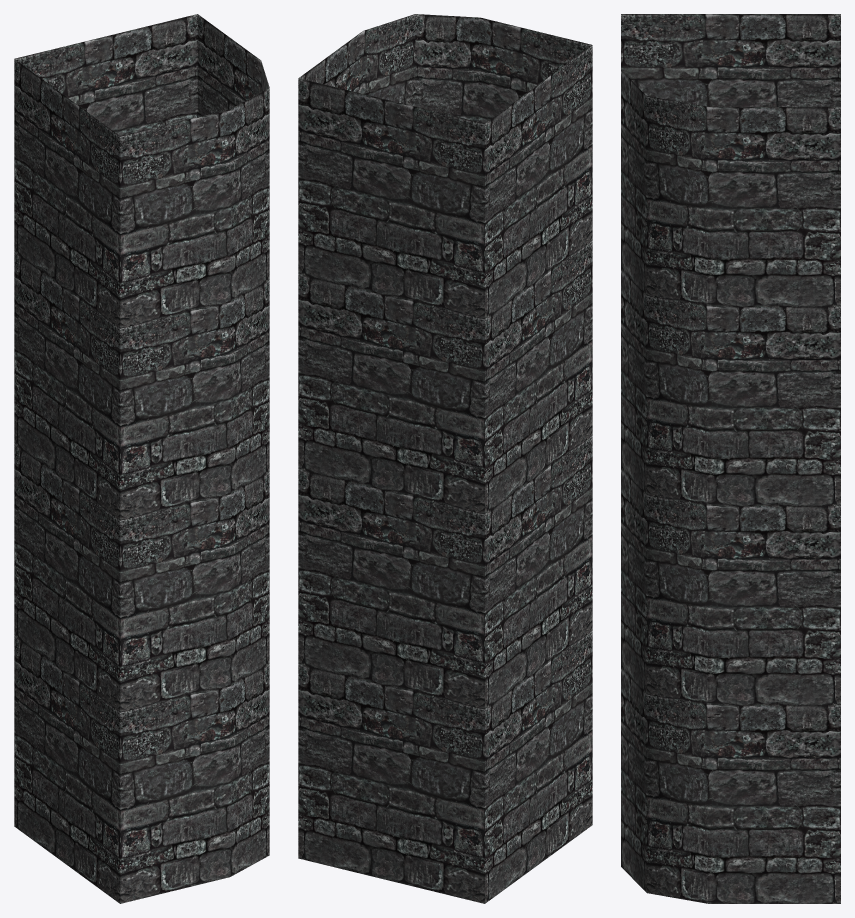
File: blocktile2.fbx
3 views of the same model, side by side, from view 1: azimuth 30°, elevation 25°; view 2: azimuth 150°, elevation 25°; view 3: azimuth 270°, elevation 25° (orthographic). The views are drawn at different scales.
Parts seen in each view (by area): view 1: polySurface14; view 2: polySurface14; view 3: polySurface14.
Boxes of the visible parts, x1,y1,x2,y2 form: polySurface14: (14, 14, 269, 903); polySurface14: (298, 14, 592, 903); polySurface14: (621, 14, 840, 903).
Bounding box in the file's own units: 2 × 8 × 2.
